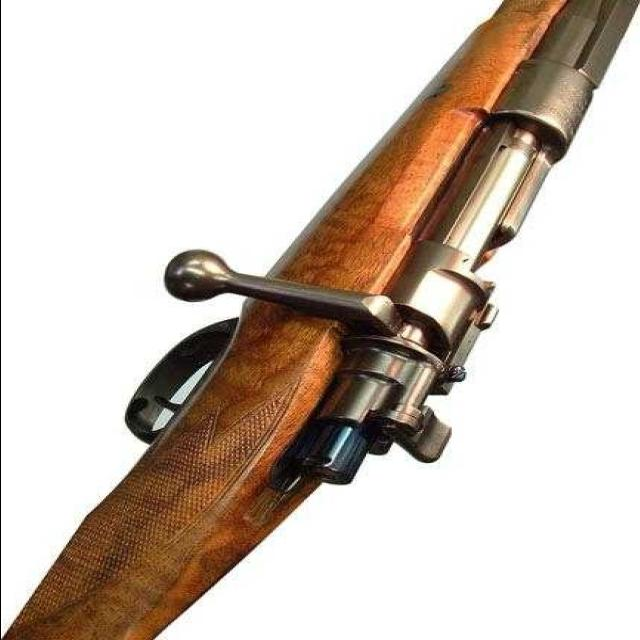heavyweapon: (2, 61, 640, 640)
